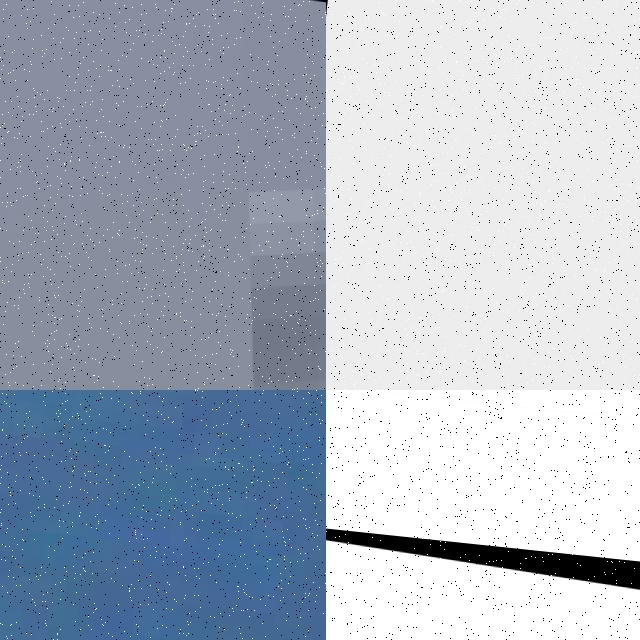drone: (0, 0, 326, 390), (326, 505, 640, 640)
